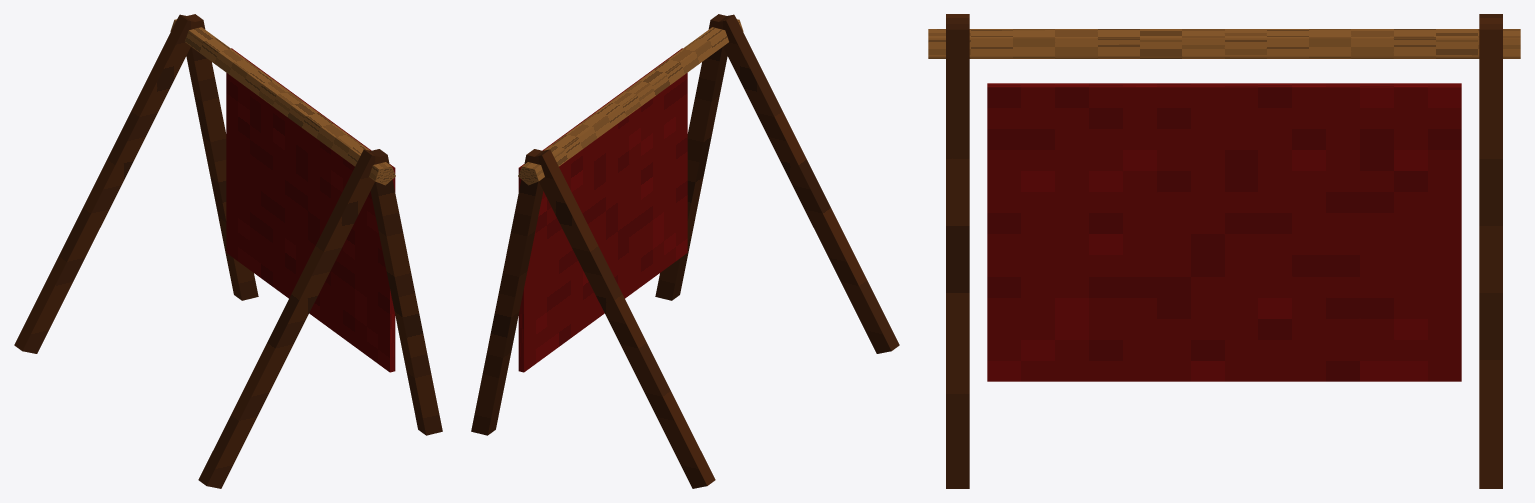
File: telar.glb
The picture shows the model from 3 angles, left to right: view 1: azimuth 30°, elevation 25°; view 2: azimuth 150°, elevation 25°; view 3: azimuth 270°, elevation 25°; orthographic projection. The views are drawn at different scales.
Visible parts, largest first — view 1: bastidor, tejido, enjulio; view 2: bastidor, tejido, enjulio; view 3: tejido, bastidor, enjulio.
Boxes of the visible parts, left/top/right/bottom form: bastidor: left=14, top=14, right=442, bottom=488; tejido: left=226, top=48, right=395, bottom=372; enjulio: left=170, top=19, right=395, bottom=185; bastidor: left=471, top=14, right=899, bottom=488; tejido: left=518, top=48, right=687, bottom=372; enjulio: left=518, top=19, right=743, bottom=185; tejido: left=987, top=83, right=1461, bottom=381; bastidor: left=946, top=14, right=1502, bottom=488; enjulio: left=928, top=29, right=1520, bottom=58.
Bounding box in the file's own units: 1 × 1.2 × 1.5.
1 material, 1 textured.
